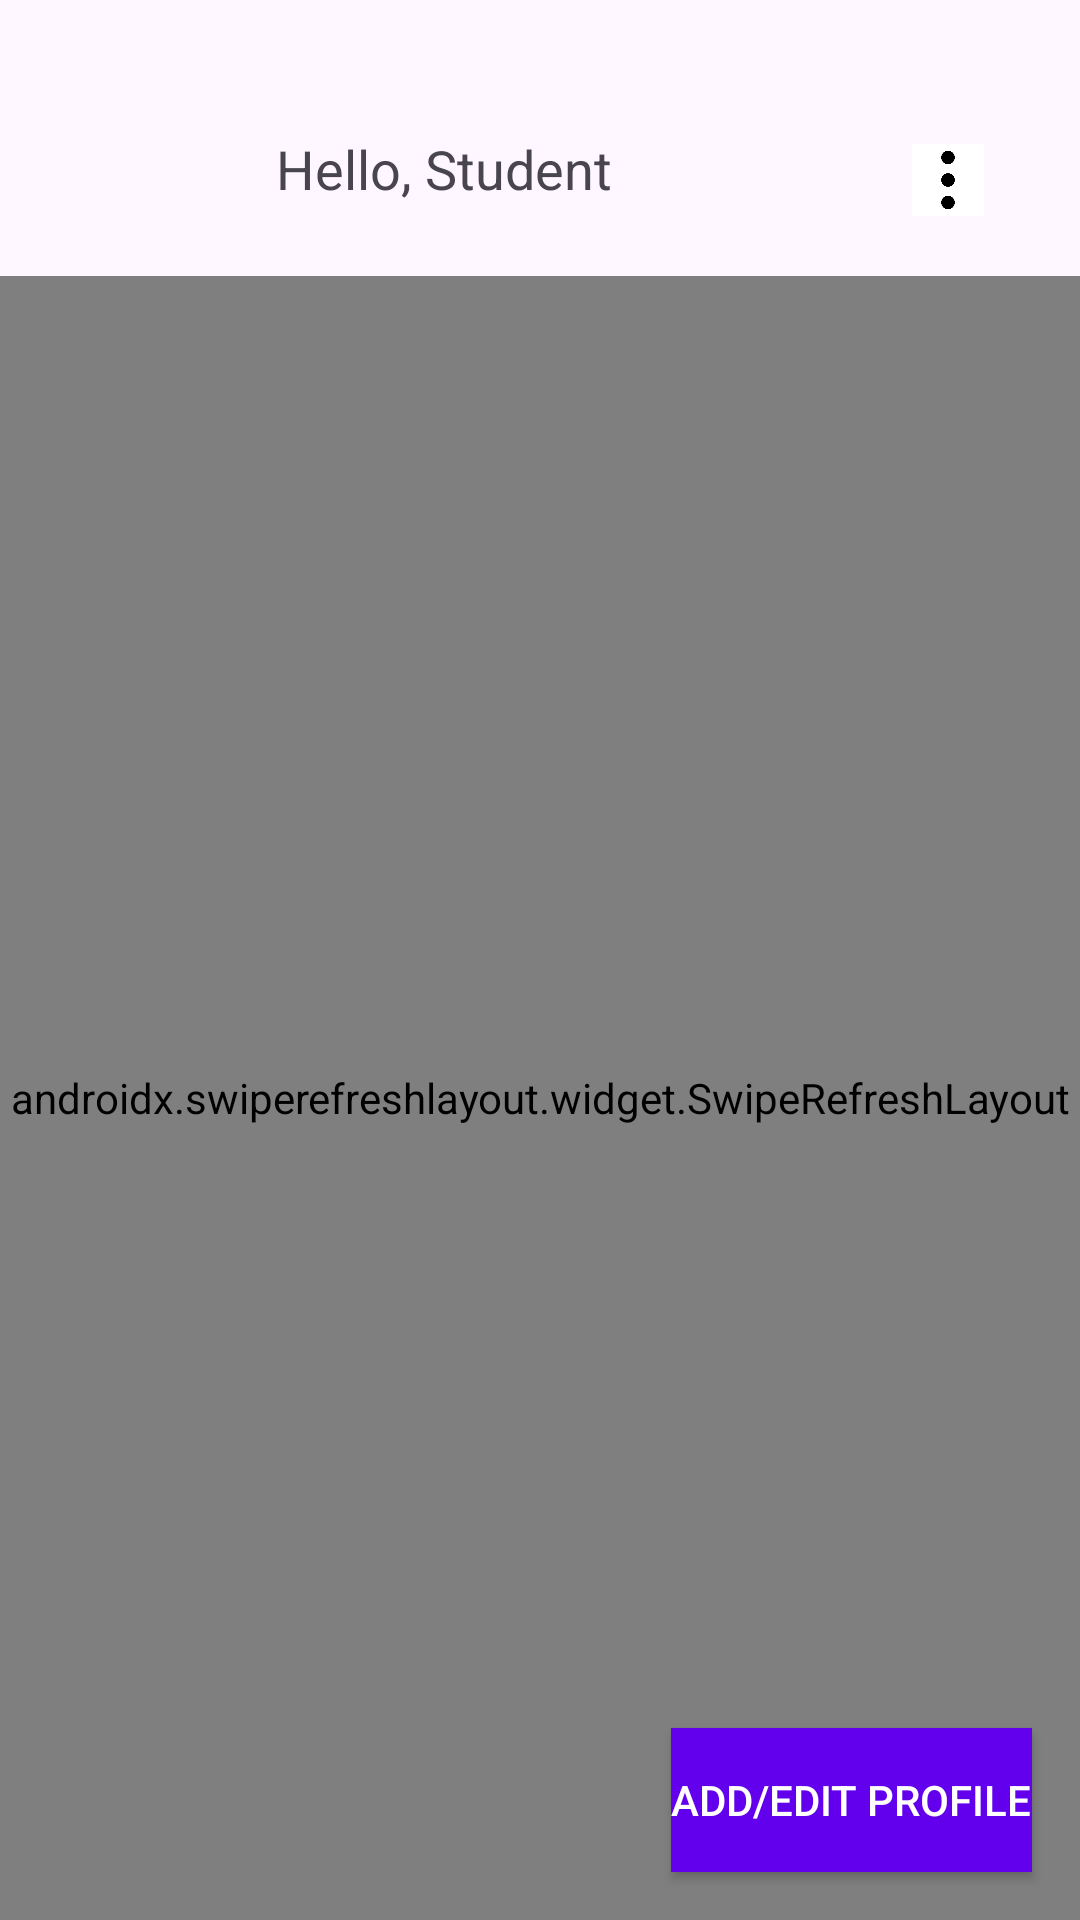

Where to tap for icons on this 1080x1920 app screen, as (x,y):
Menu: (948,180)
